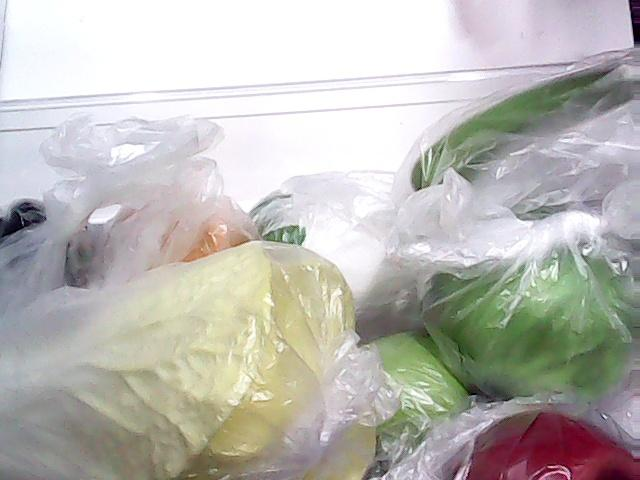apple: (422, 388, 640, 480), (362, 329, 462, 447)
cabbage: (428, 195, 640, 419)
grape: (0, 180, 116, 284)
lemon: (92, 175, 284, 261)
napa cabbage: (0, 234, 366, 480)
pepper: (408, 48, 640, 207)
radish: (248, 187, 420, 321)
